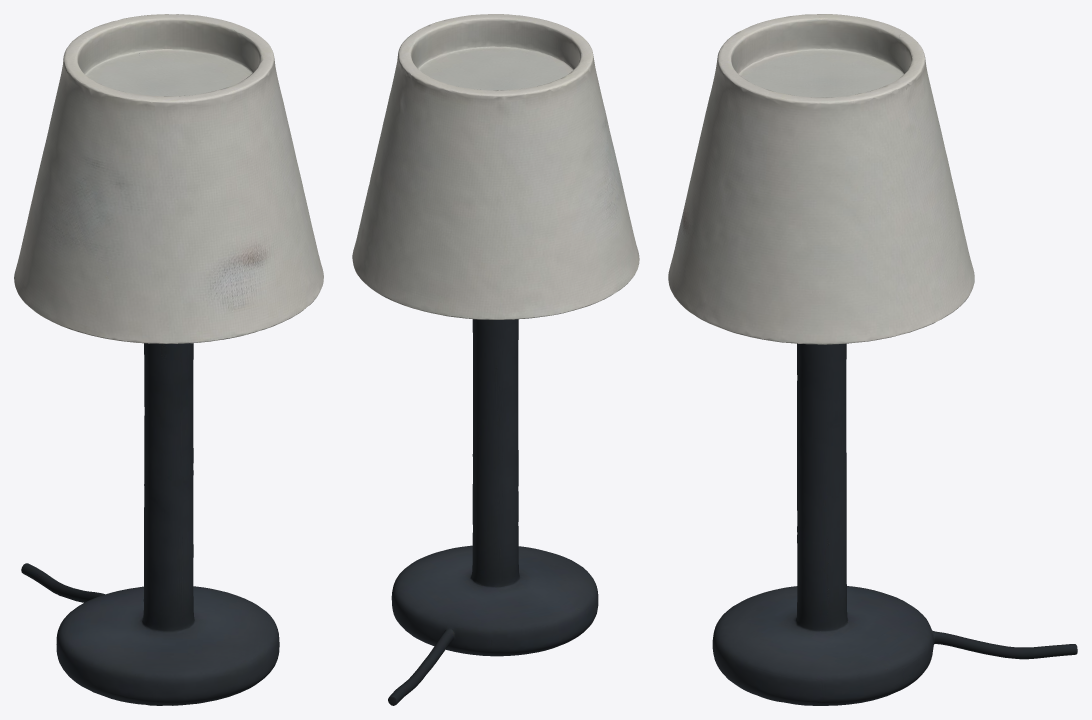
The model's file is floor_lamp.glb.
The picture shows the model from 3 angles, left to right: view 1: azimuth 30°, elevation 25°; view 2: azimuth 150°, elevation 25°; view 3: azimuth 270°, elevation 25°; orthographic projection. The views are drawn at different scales.
Visible parts, largest first — view 1: Mesh; view 2: Mesh; view 3: Mesh.
Part boxes in pixels (left/top/right/bottom): Mesh: left=14, top=14, right=323, bottom=705; Mesh: left=352, top=14, right=639, bottom=705; Mesh: left=668, top=14, right=1077, bottom=705.
Bounding box in the file's own units: 0.8791 × 1.91 × 1.16.
1 material, 1 textured.
